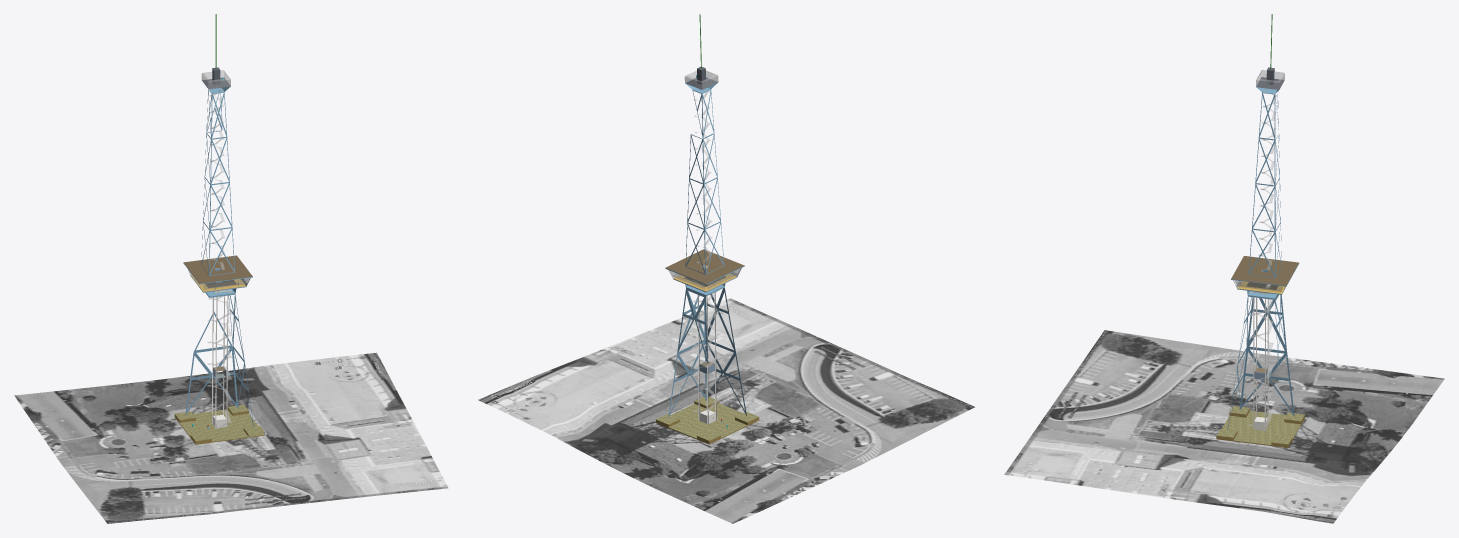
Rendered from funkturm.gltf.
3 renders of one model, left to right at view 1: azimuth 30°, elevation 25°; view 2: azimuth 150°, elevation 25°; view 3: azimuth 270°, elevation 25°, orthographic.
Parts seen in each view (by area): view 1: Mesh1 Google_Earth_Terrain Model, Mesh88 Funkturm1 Model, Mesh89 Funkturm1 Model, Mesh95 Model; view 2: Mesh1 Google_Earth_Terrain Model, Mesh88 Funkturm1 Model, Mesh89 Funkturm1 Model, Mesh95 Model; view 3: Mesh1 Google_Earth_Terrain Model, Mesh88 Funkturm1 Model, Mesh89 Funkturm1 Model, Mesh95 Model.
Part boxes in pixels (x1=…): Mesh1 Google_Earth_Terrain Model: x1=14, y1=352, x2=448, y2=523; Mesh88 Funkturm1 Model: x1=183, y1=255, x2=253, y2=427; Mesh89 Funkturm1 Model: x1=201, y1=67, x2=234, y2=275; Mesh95 Model: x1=179, y1=404, x2=264, y2=444; Mesh1 Google_Earth_Terrain Model: x1=478, y1=298, x2=974, y2=523; Mesh88 Funkturm1 Model: x1=665, y1=249, x2=746, y2=418; Mesh89 Funkturm1 Model: x1=684, y1=66, x2=724, y2=274; Mesh95 Model: x1=656, y1=396, x2=759, y2=444; Mesh1 Google_Earth_Terrain Model: x1=1004, y1=330, x2=1444, y2=523; Mesh88 Funkturm1 Model: x1=1227, y1=256, x2=1299, y2=430; Mesh89 Funkturm1 Model: x1=1248, y1=67, x2=1284, y2=277; Mesh95 Model: x1=1216, y1=405, x2=1304, y2=447.
Size of the model in its own units: 148 by 155 by 145.
Materials: 29 (14 with a texture image).
